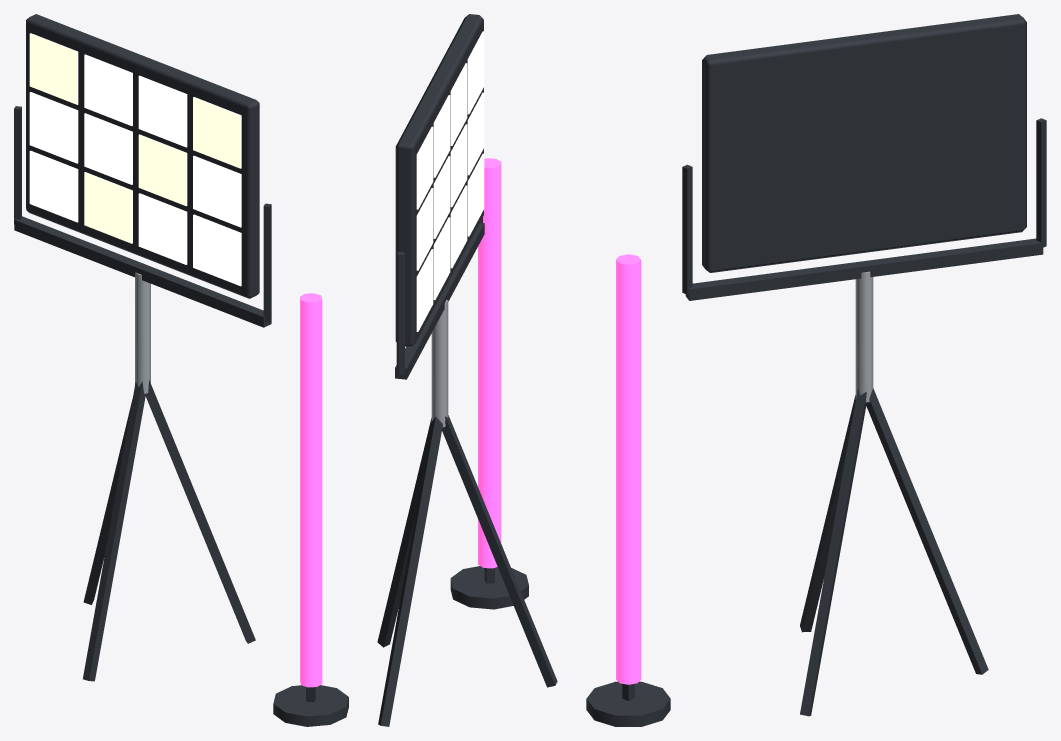
Rendered from station_buffer_ausstattung_2_2.glb.
The picture shows the model from 3 angles, left to right: view 1: azimuth 30°, elevation 25°; view 2: azimuth 150°, elevation 25°; view 3: azimuth 270°, elevation 25°; orthographic projection. The views are drawn at different scales.
Parts seen in each view (by area): view 1: station_buffer_ausstattung_2_2; view 2: station_buffer_ausstattung_2_2; view 3: station_buffer_ausstattung_2_2.
Boxes of the visible parts, box(x1,y1,x2,y2) form: station_buffer_ausstattung_2_2: box(14, 14, 348, 726); station_buffer_ausstattung_2_2: box(377, 14, 557, 726); station_buffer_ausstattung_2_2: box(586, 14, 1046, 726).
Size of the model in its own units: 0.531 by 1.68 by 1.09.
